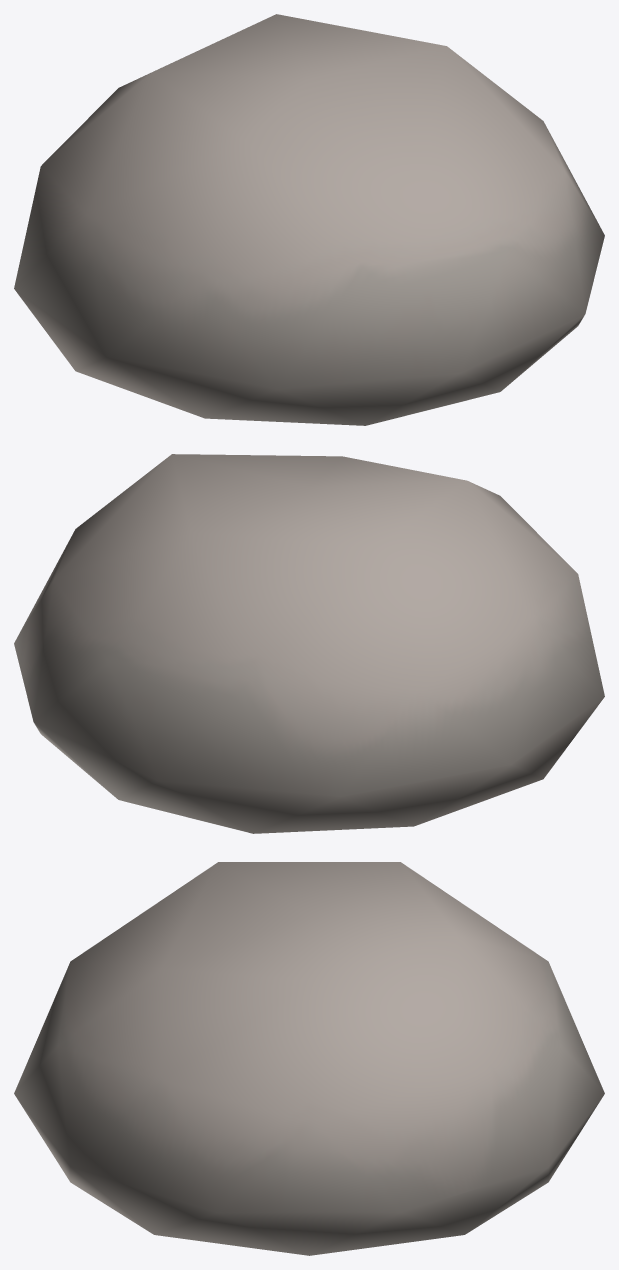
The model's file is batu_1.fbx.
3 views of the same model, one above another, from view 1: azimuth 30°, elevation 25°; view 2: azimuth 150°, elevation 25°; view 3: azimuth 270°, elevation 25° (orthographic). The views are drawn at different scales.
Visible parts, largest first — view 1: batu_1; view 2: batu_1; view 3: batu_1.
Part boxes in pixels (box(x1,y1,x2,y2)): batu_1: box(14, 14, 604, 425); batu_1: box(14, 454, 604, 833); batu_1: box(14, 862, 604, 1255).
Size of the model in its own units: 1.9 by 0.8916 by 2.
Materials: 1 (1 with a texture image).
